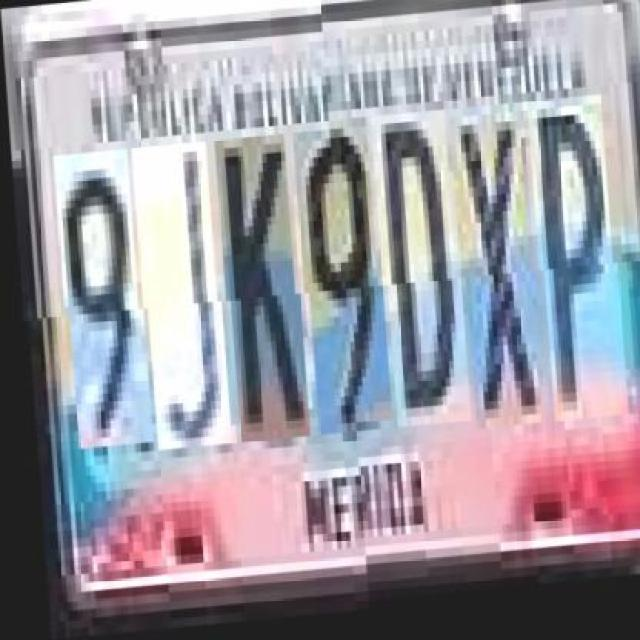9: (296, 132, 386, 440), (56, 150, 146, 450)
d: (373, 126, 465, 443)
j: (133, 145, 224, 453)
k: (215, 139, 303, 446)
p: (529, 114, 622, 440)
x: (452, 122, 539, 446)
